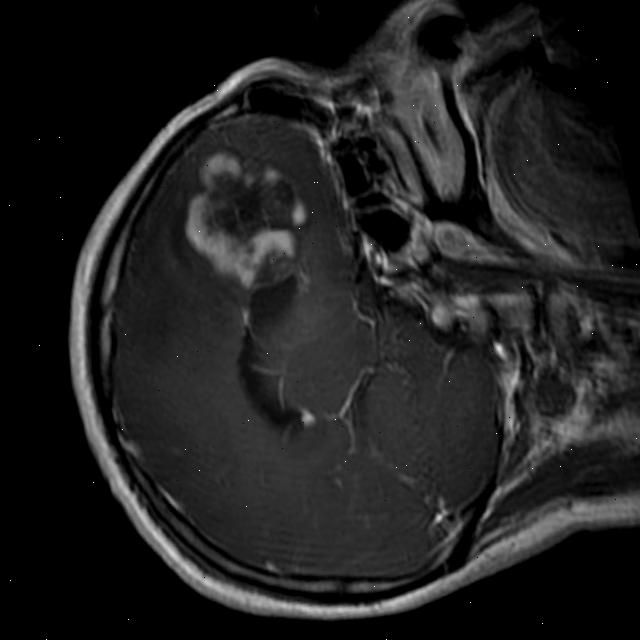Glioma: (164, 137, 322, 298)
